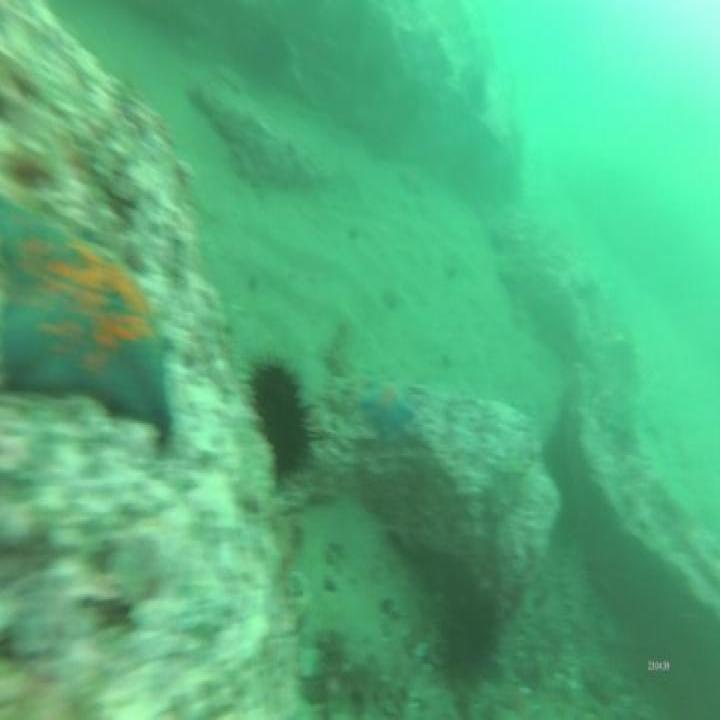echinus: (252, 361, 311, 471), (437, 582, 494, 676)
starfish: (2, 188, 172, 441), (358, 377, 413, 435)
